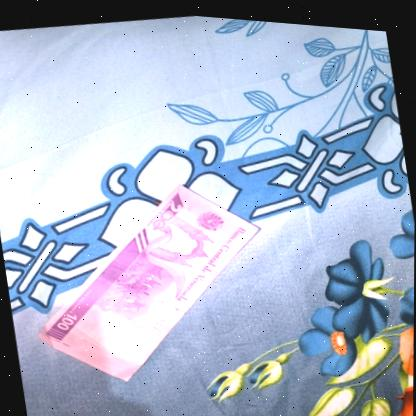one_hundred-back-vef: (14, 156, 284, 403)
